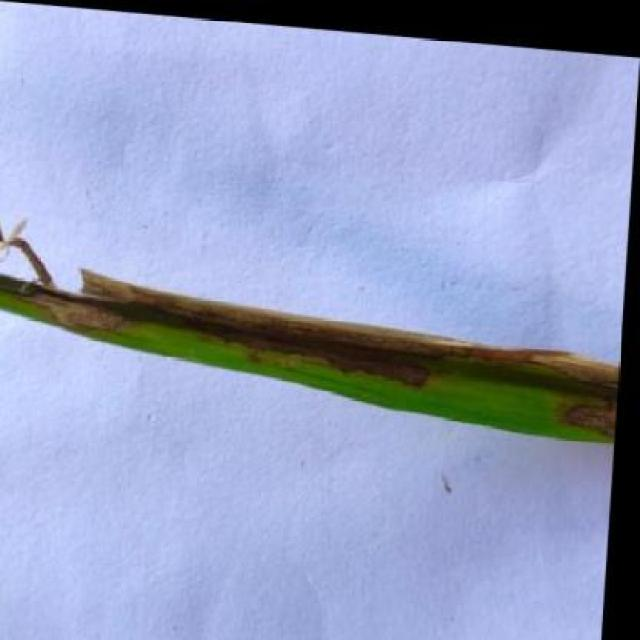Brown_Spot: (0, 215, 629, 436)
